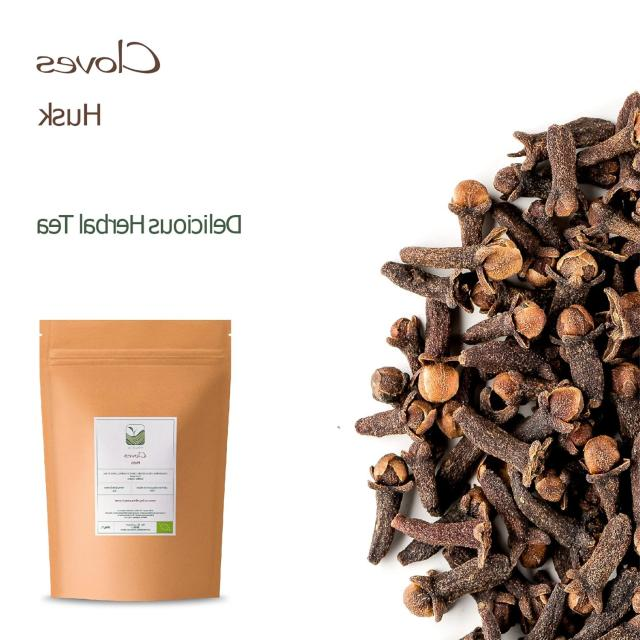clove: (356, 92, 640, 640)
